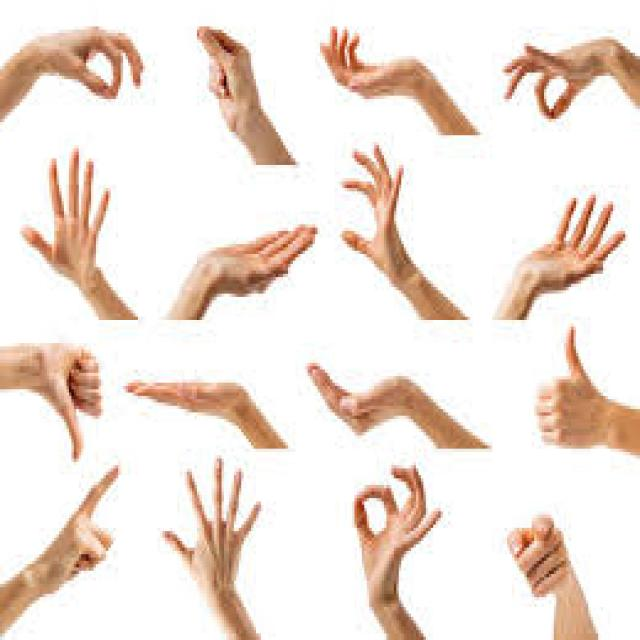Hand: (158, 450, 264, 597), (348, 460, 446, 610), (23, 464, 126, 605), (18, 144, 116, 292), (515, 188, 630, 296), (192, 213, 320, 302), (498, 34, 615, 126), (336, 141, 410, 281), (38, 17, 148, 103), (302, 354, 413, 439), (192, 21, 265, 140), (38, 338, 108, 462), (536, 322, 598, 455), (314, 20, 410, 104), (120, 372, 249, 430), (503, 508, 575, 604)
